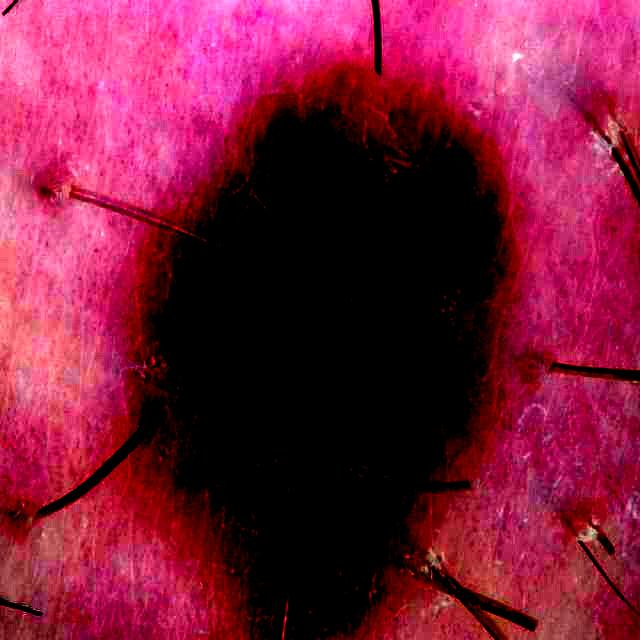NV: (162, 71, 512, 638)
